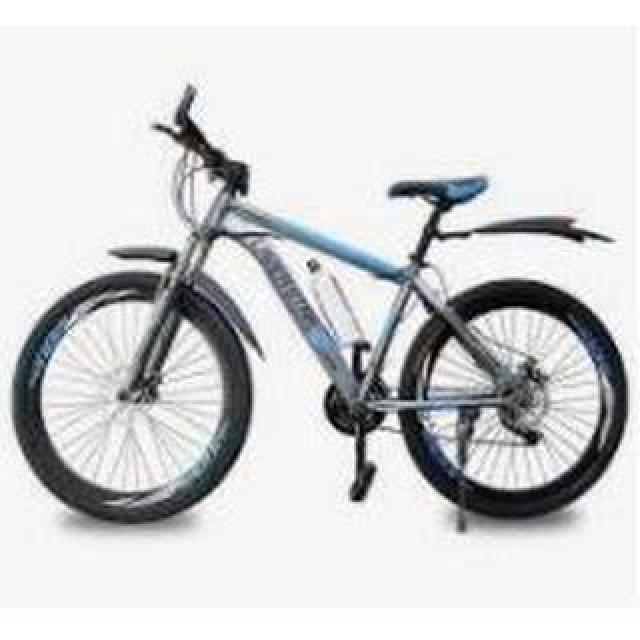Person: (10, 87, 640, 537)
